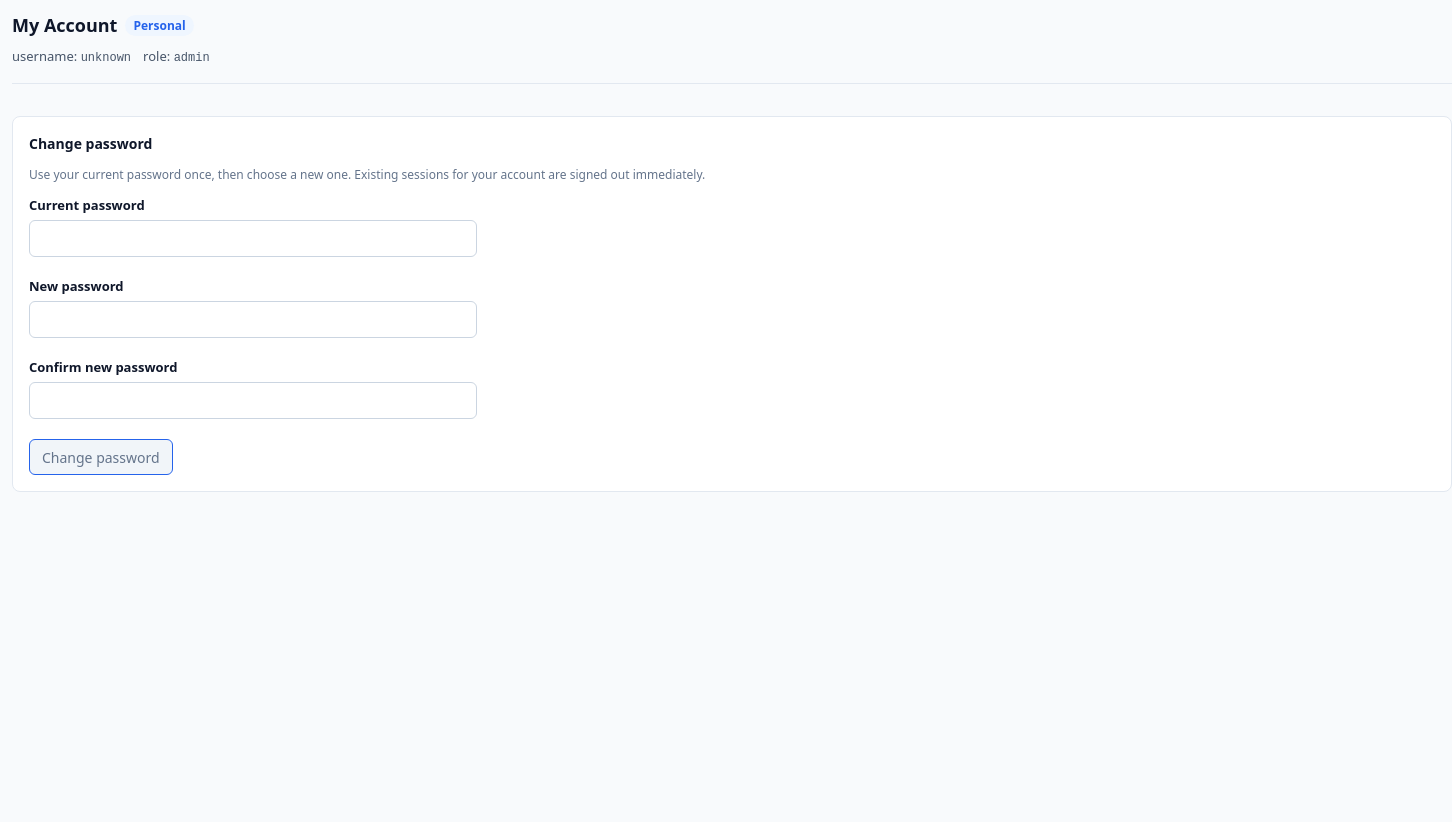
Test case: LG-062 My Account › surfaces a wrong current password and still clears the fields
Type "wrong" into the password field labelled "Current password" at (253, 238), box [29, 220, 477, 257]
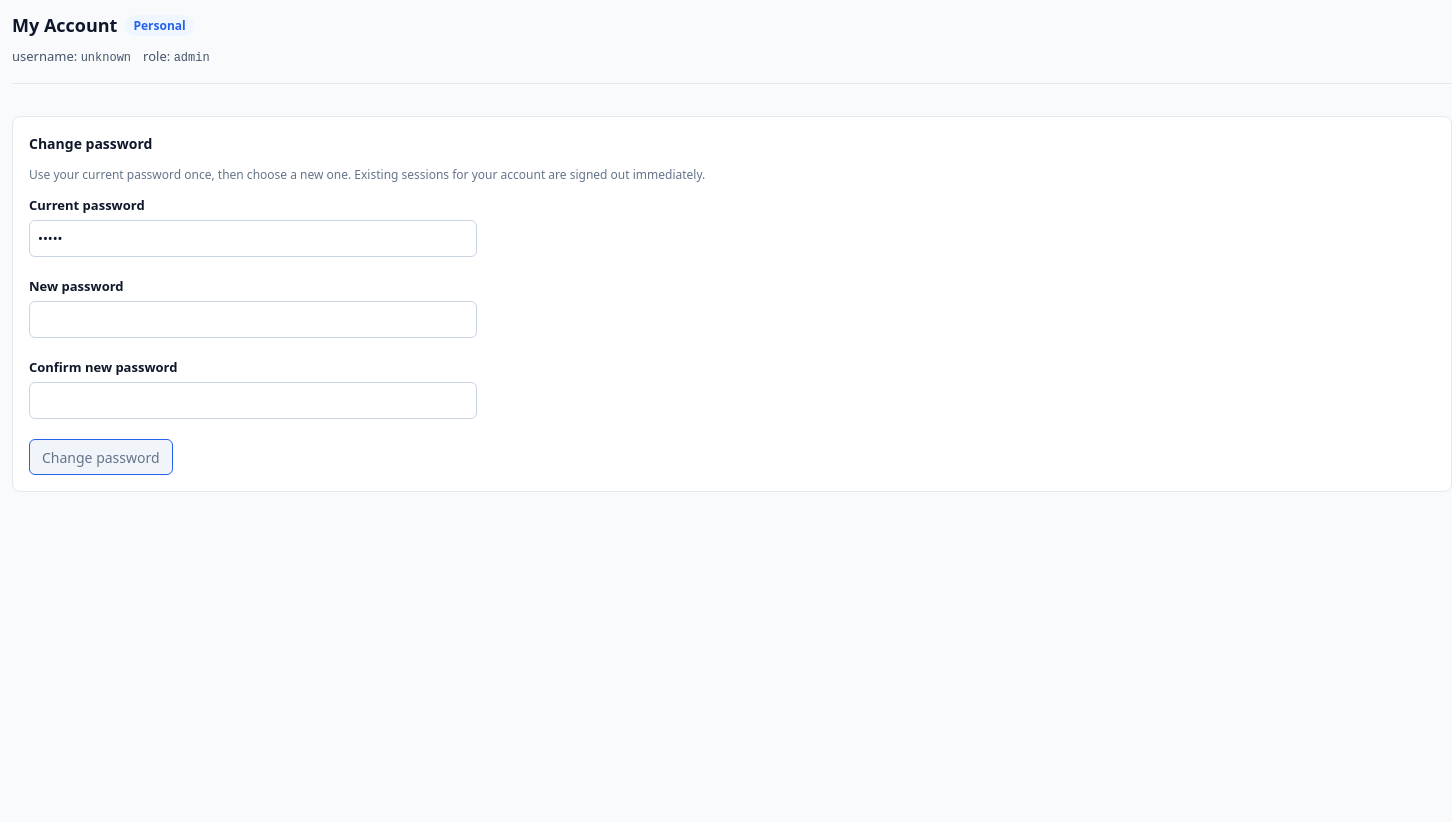
Type "new-pw" into the password field labelled "New password" at (253, 319), box [29, 300, 477, 338]
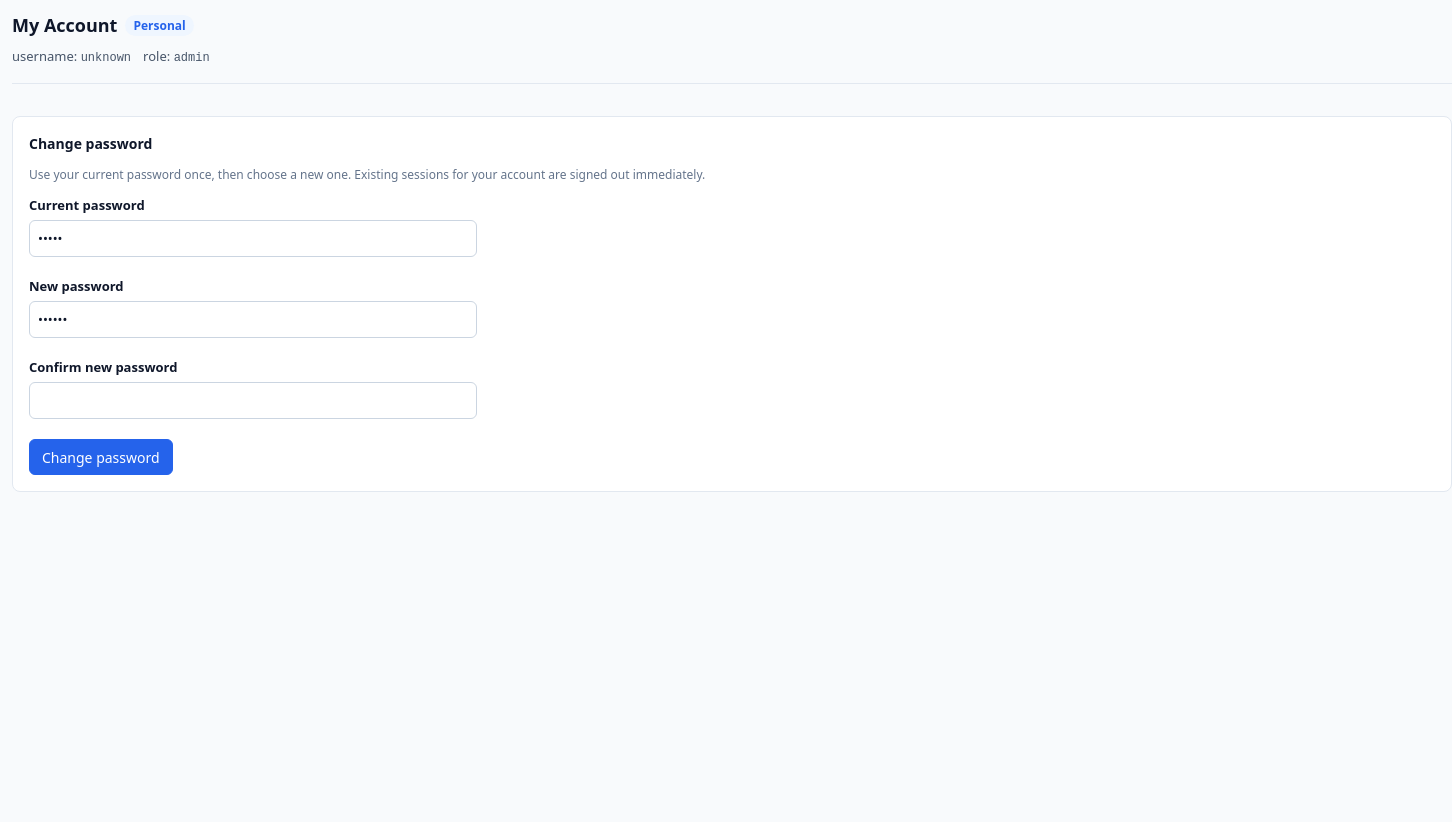
Type "new-pw" into the password field labelled "Confirm new password" at (253, 400), box [29, 382, 477, 419]
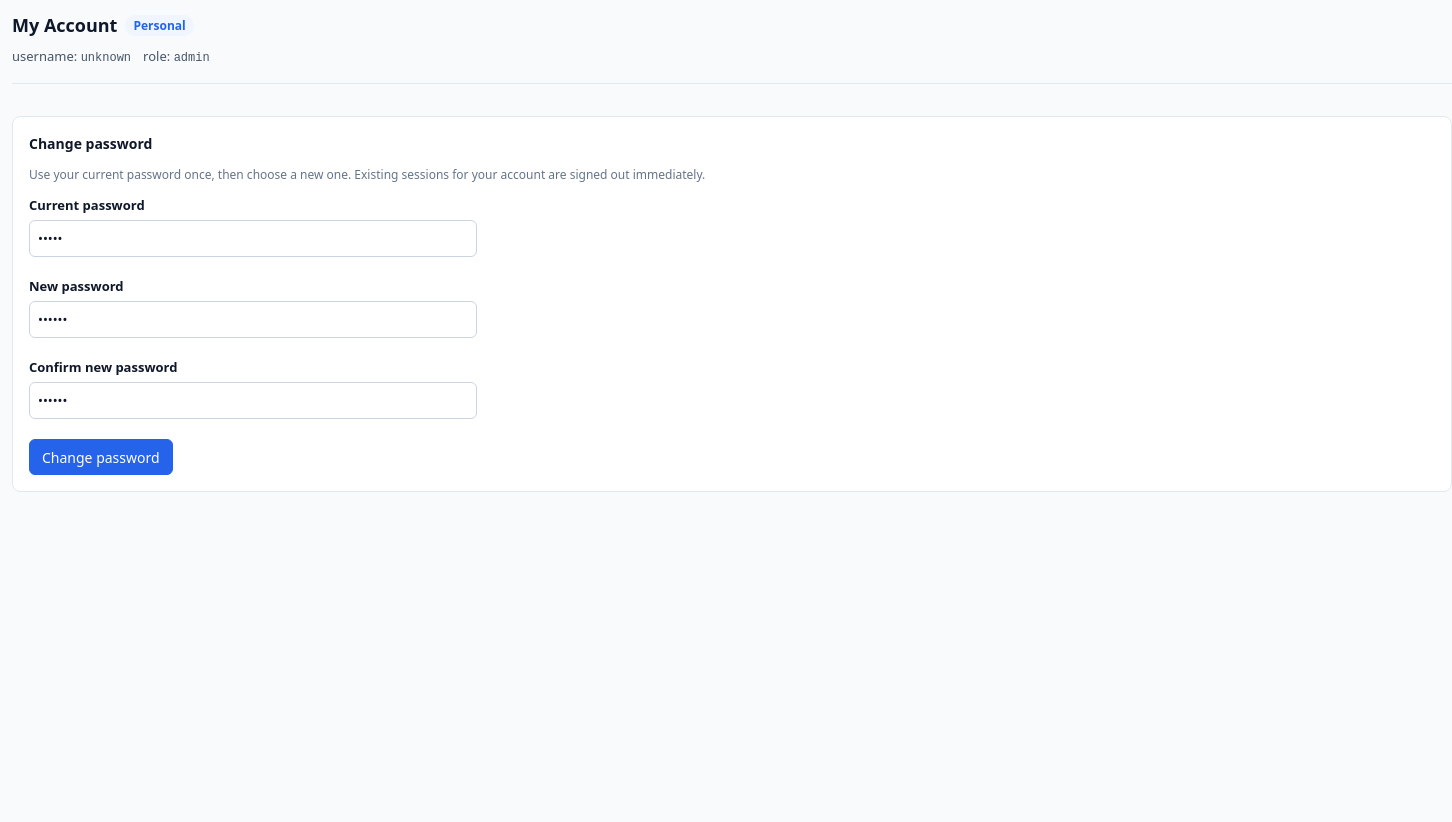
Click the button "Change password" at (101, 457), box [29, 439, 173, 475]
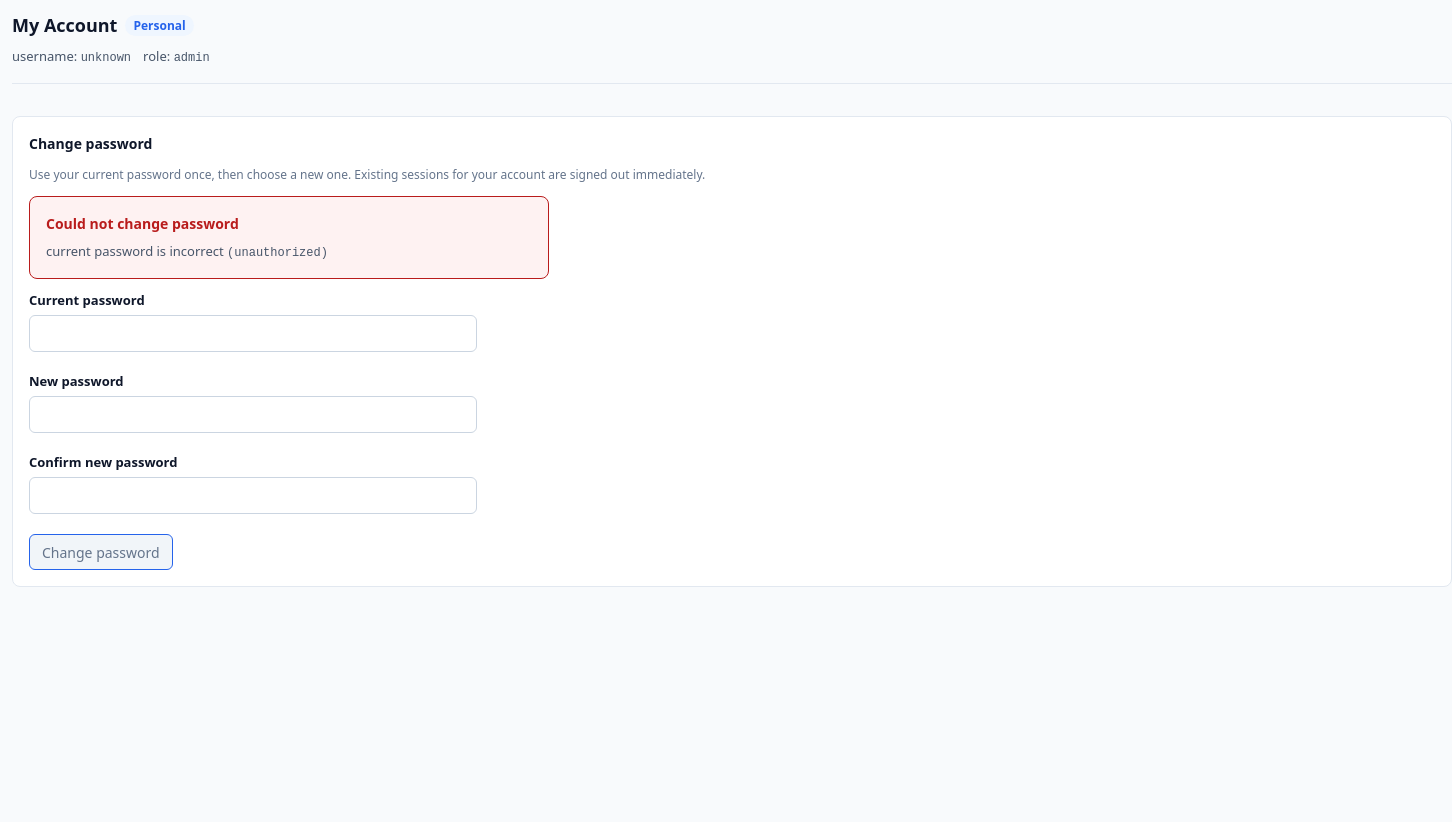
Expected: the text "current password is incorrect (unauthorized)" is shown, [46, 242, 328, 262]
Expected: the password field labelled "Current password" is empty, [29, 314, 477, 352]
